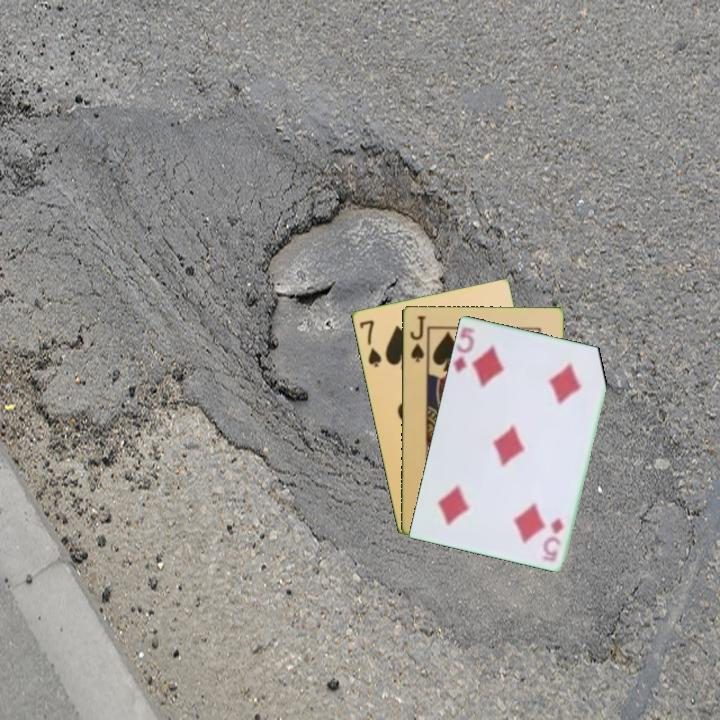5d: (450, 325, 477, 376), (541, 514, 567, 563)
7s: (356, 316, 384, 370)
Js: (406, 312, 428, 364)
